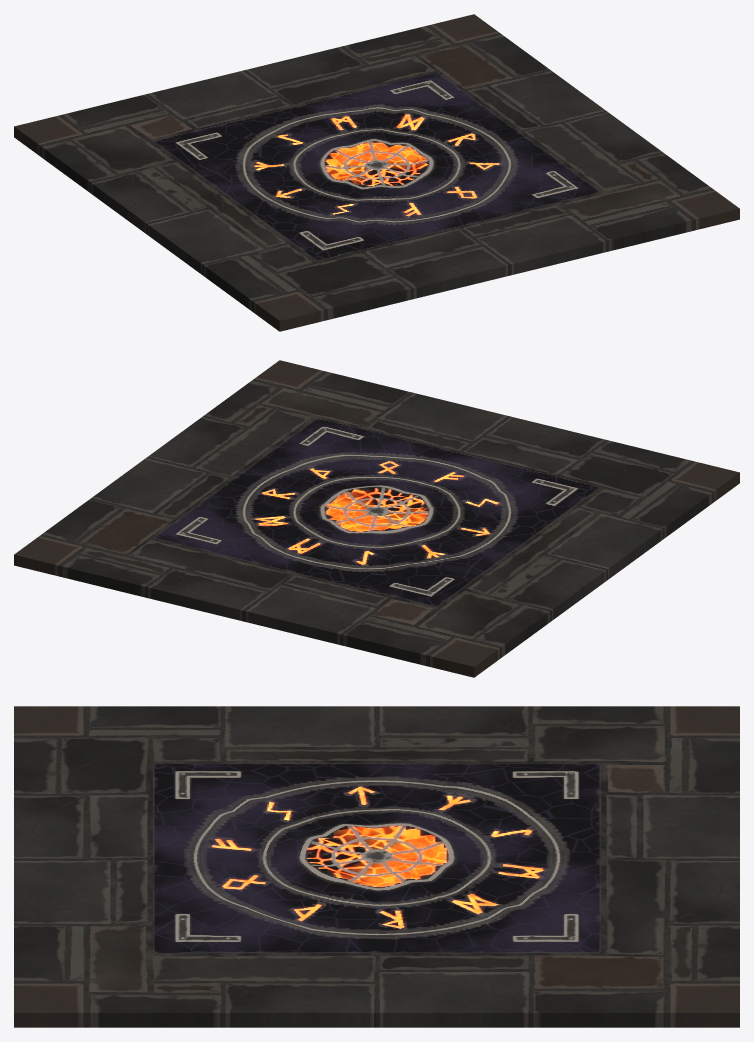
The model's file is hellforge_floor_c.glb.
3 renders of one model, top to bottom at view 1: azimuth 30°, elevation 25°; view 2: azimuth 150°, elevation 25°; view 3: azimuth 270°, elevation 25°, orthographic. The views are drawn at different scales.
Visible parts, largest first — view 1: hellforge_floor_c; view 2: hellforge_floor_c; view 3: hellforge_floor_c.
Part boxes in pixels (left/top/right/bottom): hellforge_floor_c: left=14, top=14, right=739, bottom=331; hellforge_floor_c: left=14, top=360, right=739, bottom=677; hellforge_floor_c: left=14, top=706, right=739, bottom=1027.
Bounding box in the file's own units: 4 × 0.13 × 4.
Materials: 1 (1 with a texture image).
